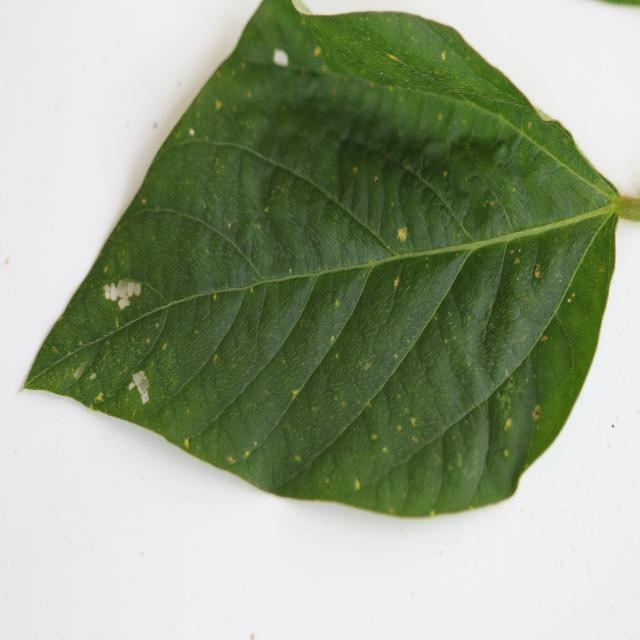Soybean: (22, 0, 640, 521)
downey_mildew: (486, 206, 611, 399), (343, 69, 537, 167), (405, 205, 615, 274), (432, 233, 515, 404), (223, 258, 324, 388), (375, 231, 485, 350), (284, 255, 382, 378), (463, 359, 537, 509), (301, 9, 420, 83), (356, 171, 431, 288), (22, 307, 120, 396), (254, 162, 331, 270), (71, 290, 201, 350), (525, 117, 610, 205), (448, 144, 529, 236), (423, 400, 489, 512), (179, 278, 250, 378), (231, 146, 283, 271), (190, 397, 270, 471), (197, 151, 253, 252), (394, 428, 447, 513), (274, 253, 403, 287), (435, 71, 528, 115), (569, 233, 615, 310), (339, 148, 374, 232), (234, 55, 322, 85), (132, 273, 182, 307)
